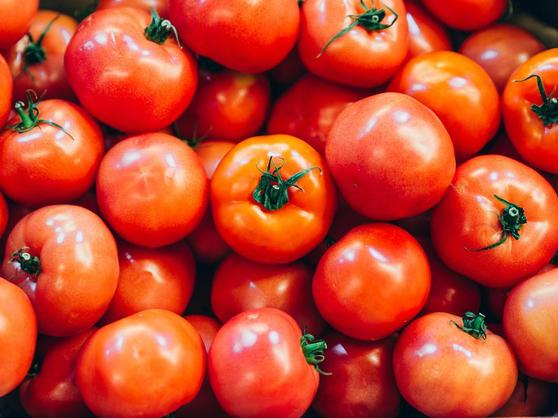tomato: (327, 89, 457, 220), (69, 7, 199, 138), (212, 132, 330, 263), (441, 153, 556, 283), (9, 202, 120, 332), (315, 223, 432, 344), (74, 307, 205, 414), (393, 307, 520, 417), (92, 132, 209, 248), (209, 305, 322, 418), (398, 44, 502, 154)
